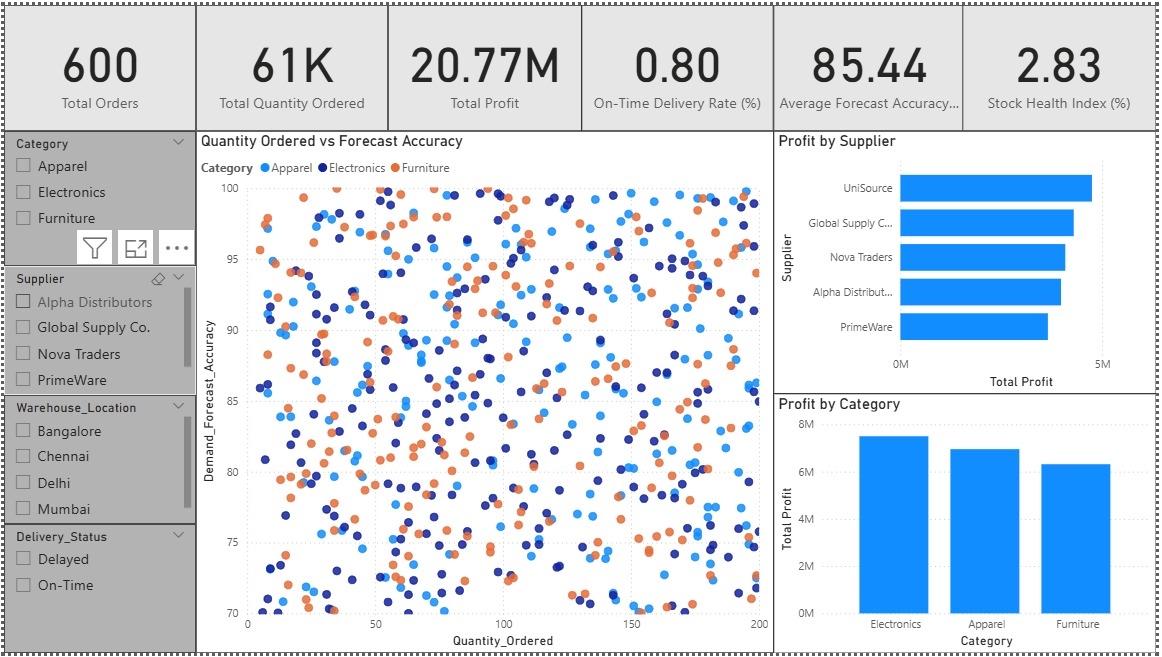

What the dashboard file says about the page in this screenshot:
{"tool":"powerbi","page":{"name":"Page 1","canvas":[1280,720],"ordinal":0},"visuals":[{"type":"card","fields":{"Values":["Measures (2).Total Orders"]},"box":[0,0,213.3,140],"z":0},{"type":"card","fields":{"Values":["Measures (2).On-Time Delivery Rate (%)"]},"box":[641.7,0,213.3,140],"z":1},{"type":"card","fields":{"Values":["Measures (2).Average Forecast Accuracy (%)"]},"box":[855,0,213.3,140],"z":2},{"type":"card","fields":{"Values":["Measures (2).Total Quantity Ordered"]},"box":[213.3,0,213.3,140],"z":3},{"type":"card","fields":{"Values":["Measures (2).Total Profit"]},"box":[426.7,0,215,140],"z":4},{"type":"card","fields":{"Values":["Measures (2).Stock Health Index (%)"]},"box":[1065,0,215,140],"z":5},{"type":"slicer","fields":{"Values":["Supply_Chain_Inventory_Optimization.Category"]},"box":[0,140,213.3,150],"z":6},{"type":"slicer","fields":{"Values":["Supply_Chain_Inventory_Optimization.Warehouse_Location"]},"box":[0,433.3,213.3,143.3],"z":7},{"type":"slicer","fields":{"Values":["Supply_Chain_Inventory_Optimization.Supplier"]},"box":[0,290,213.3,143.3],"z":8},{"type":"slicer","fields":{"Values":["Supply_Chain_Inventory_Optimization.Delivery_Status"]},"box":[0,576.7,213.3,143.3],"z":9},{"type":"clusteredColumnChart","title":"Profit by Category","fields":{"Category":["Supply_Chain_Inventory_Optimization.Category"],"Y":["Measures (2).Total Profit"]},"box":[855,431.7,425,288.3],"z":10},{"type":"clusteredBarChart","title":"Profit by Supplier","fields":{"Y":["Measures (2).Total Profit"],"Category":["Supply_Chain_Inventory_Optimization.Supplier"]},"box":[855,140,425,291.7],"z":11},{"type":"scatterChart","title":"Quantity Ordered vs Forecast Accuracy","fields":{"X":["Supply_Chain_Inventory_Optimization.Quantity_Ordered"],"Y":["Supply_Chain_Inventory_Optimization.Demand_Forecast_Accuracy"],"Series":["Supply_Chain_Inventory_Optimization.Category"]},"box":[213.3,140,641.7,580],"z":12}]}

Visuals, with their boxes in screenshot pixels (x1, y1, x2, y2), scaled from the page's 1280x720 canvas onto the 1162x657 screenshot:
card - Measures (2).Total Orders: crop(0, 0, 194, 128)
card - Measures (2).On-Time Delivery Rate (%): crop(583, 0, 776, 128)
card - Measures (2).Average Forecast Accuracy (%): crop(776, 0, 970, 128)
card - Measures (2).Total Quantity Ordered: crop(194, 0, 387, 128)
card - Measures (2).Total Profit: crop(387, 0, 583, 128)
card - Measures (2).Stock Health Index (%): crop(967, 0, 1161, 128)
slicer - Supply_Chain_Inventory_Optimization.Category: crop(0, 128, 194, 265)
slicer - Supply_Chain_Inventory_Optimization.Warehouse_Location: crop(0, 395, 194, 526)
slicer - Supply_Chain_Inventory_Optimization.Supplier: crop(0, 265, 194, 395)
slicer - Supply_Chain_Inventory_Optimization.Delivery_Status: crop(0, 526, 194, 656)
"Profit by Category" clusteredColumnChart: crop(776, 394, 1161, 656)
"Profit by Supplier" clusteredBarChart: crop(776, 128, 1161, 394)
"Quantity Ordered vs Forecast Accuracy" scatterChart: crop(194, 128, 776, 656)
